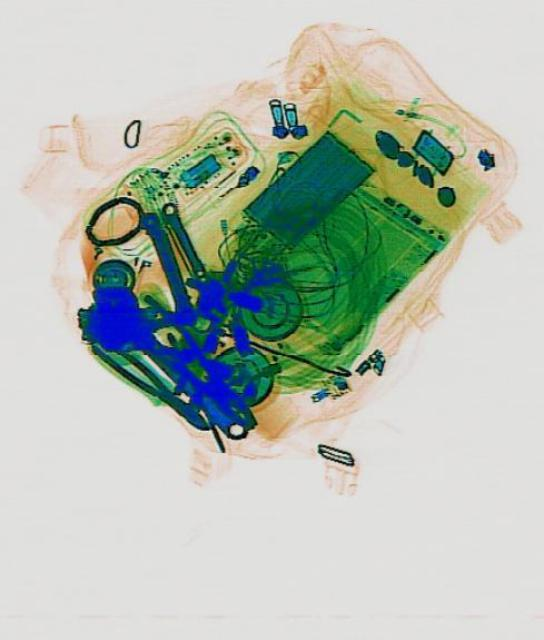Pliers: (86, 328, 211, 438)
Wrench: (72, 267, 261, 458)
